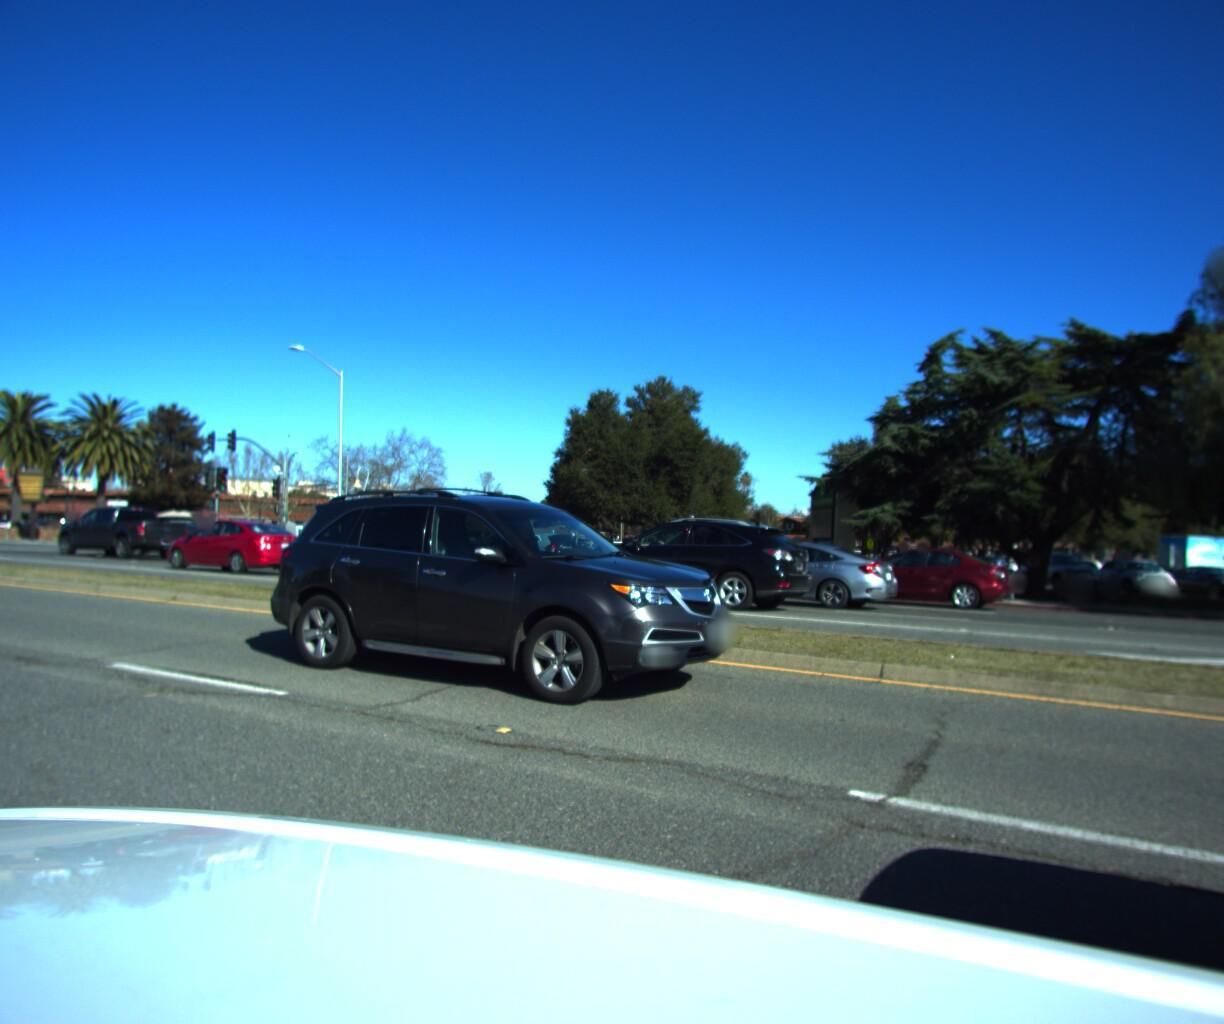car: (259, 477, 767, 726), (552, 506, 828, 615), (699, 524, 904, 611), (827, 534, 1025, 608), (151, 510, 318, 574), (46, 501, 184, 555), (603, 537, 661, 560)
